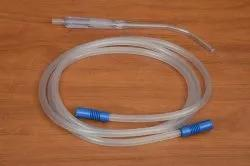Suction Tube Nozzle: (38, 13, 220, 148)
